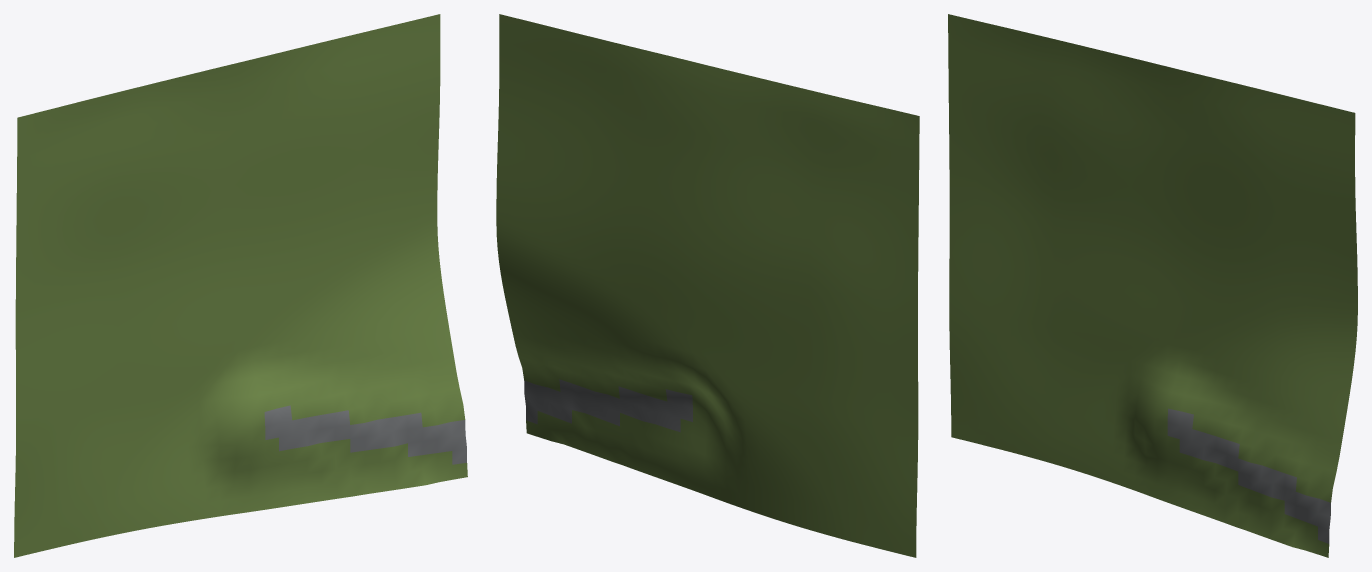
File: island_terrain_23_09.obj
The picture shows the model from 3 angles, left to right: view 1: azimuth 30°, elevation 25°; view 2: azimuth 150°, elevation 25°; view 3: azimuth 330°, elevation 25°; orthographic projection. The views are drawn at different scales.
Visible parts, largest first — view 1: island_terrain_23_09; view 2: island_terrain_23_09; view 3: island_terrain_23_09.
Boxes of the visible parts, x1,y1,x2,y2 form: island_terrain_23_09: (14, 14, 467, 557); island_terrain_23_09: (496, 14, 919, 557); island_terrain_23_09: (948, 14, 1357, 557).
Bounding box in the file's own units: 256 × 256 × 34.4.
